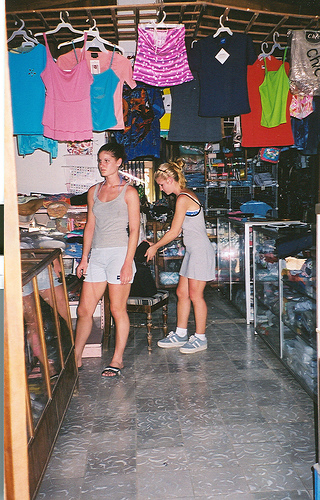without_mask: (155, 168, 183, 197), (96, 149, 122, 178)
